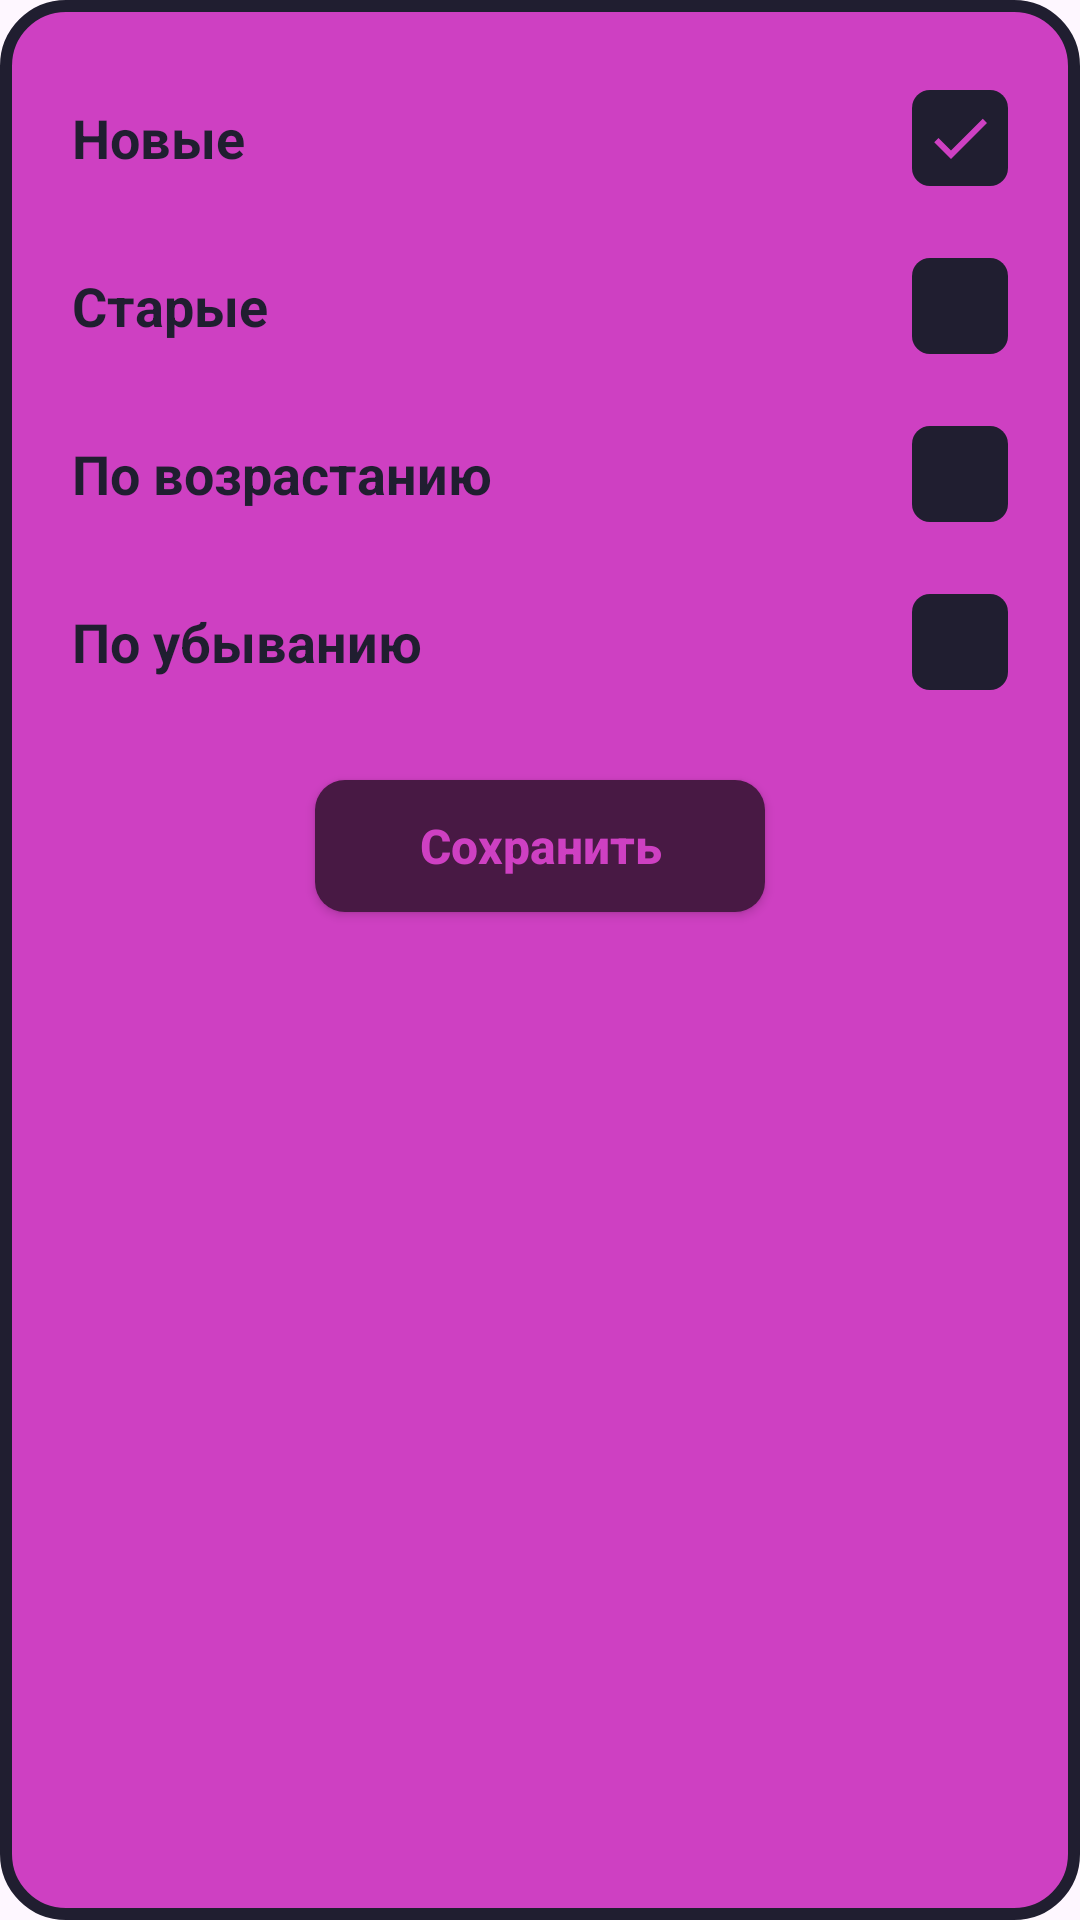

Named icons in this screenshot (1080 x 1920) and their centers, (x,y):
check: (960,138)
